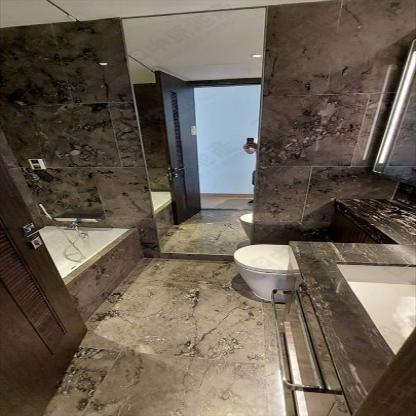Bathtub: (35, 225, 140, 318), (149, 190, 170, 239)
Toilet: (233, 242, 292, 301), (238, 213, 253, 239)
Toilet Sink: (337, 262, 415, 355)
